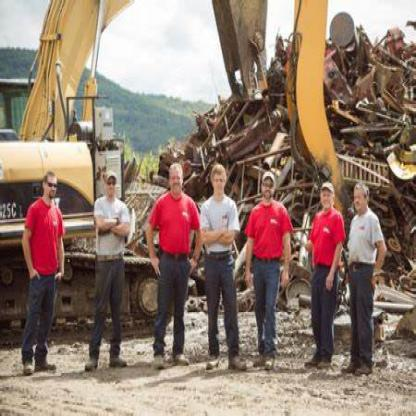person: (344, 166, 396, 391), (148, 148, 192, 383), (248, 164, 294, 380), (196, 155, 241, 374), (87, 158, 130, 384), (17, 150, 59, 372), (304, 170, 340, 382)
